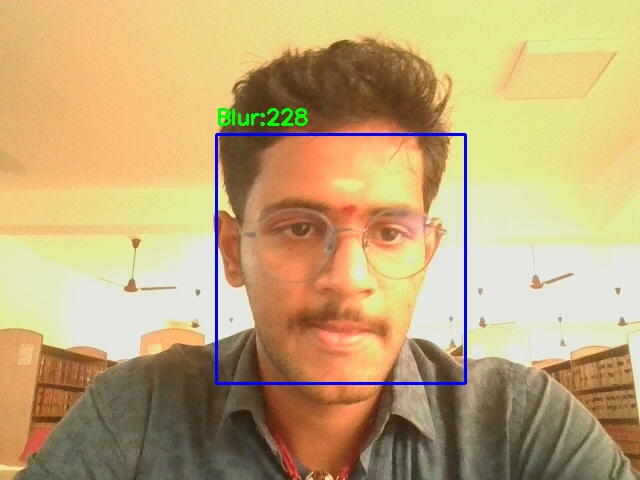real: (216, 134, 465, 383)
